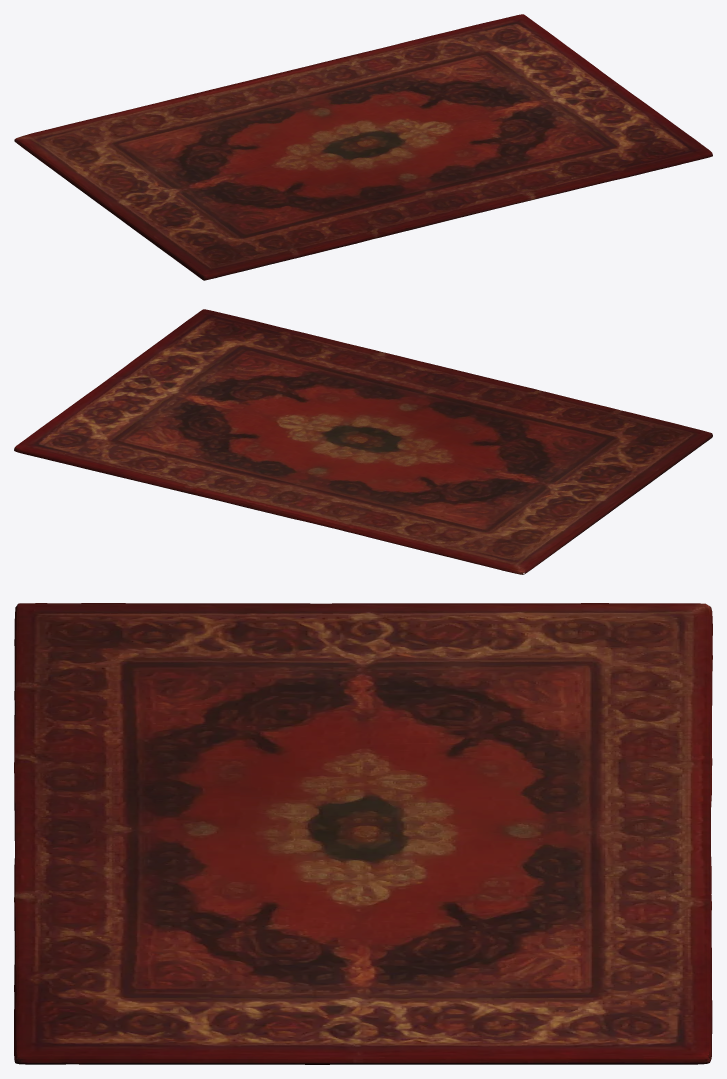
Rendered from rug.glb.
The picture shows the model from 3 angles, top to bottom: view 1: azimuth 30°, elevation 25°; view 2: azimuth 150°, elevation 25°; view 3: azimuth 270°, elevation 25°; orthographic projection. The views are drawn at different scales.
Parts seen in each view (by area): view 1: geometry_0; view 2: geometry_0; view 3: geometry_0.
Boxes of the visible parts, x1,y1,x2,y2 form: geometry_0: (14,14,712,280); geometry_0: (14,309,712,574); geometry_0: (14,603,712,1064).
Size of the model in its own units: 1 by 0.0104 by 0.6495.
Materials: 1 (1 with a texture image).
